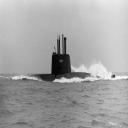submarine: (14, 33, 120, 81)
